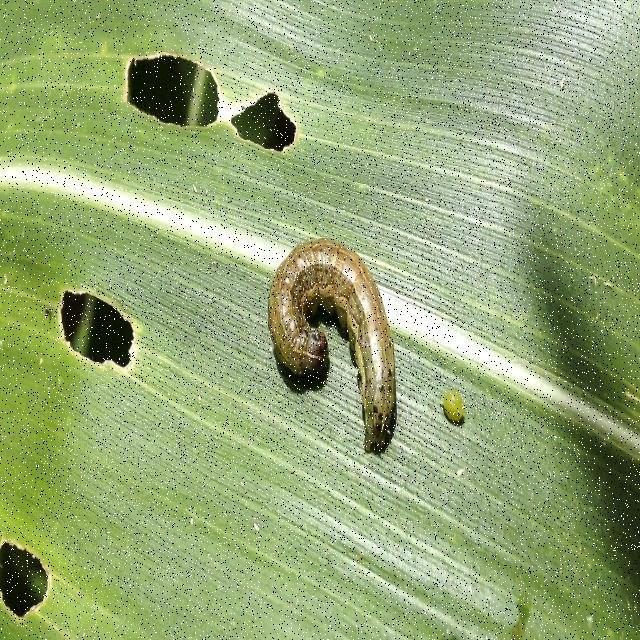army worm: (235, 208, 423, 463)
